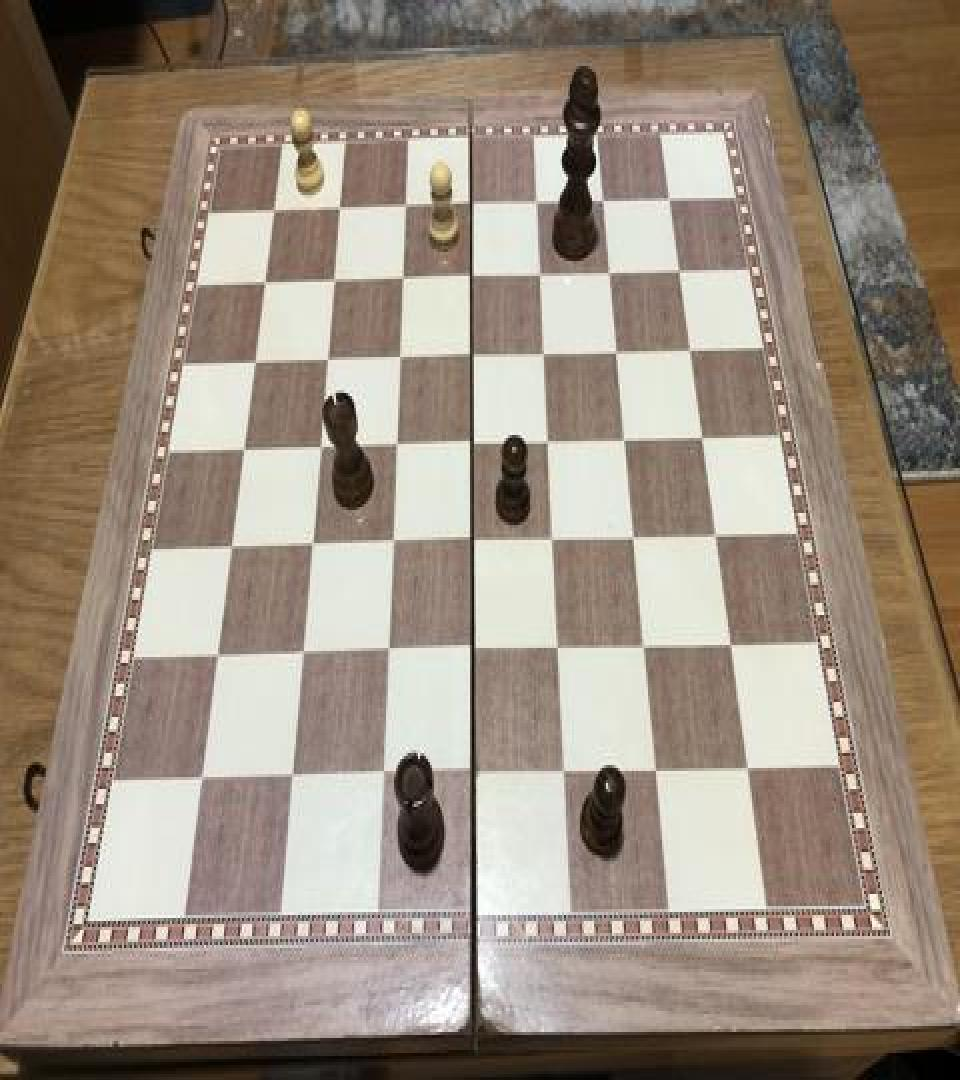xcorner: (546, 631, 570, 668), (292, 637, 316, 674), (553, 754, 577, 791), (656, 182, 680, 218), (590, 183, 614, 219), (524, 186, 548, 222), (459, 189, 483, 225), (394, 190, 418, 226), (330, 194, 354, 230), (265, 195, 289, 231), (666, 252, 690, 288), (597, 255, 621, 291), (528, 258, 552, 294), (391, 262, 415, 298), (324, 264, 348, 300), (256, 267, 280, 303), (677, 332, 701, 368), (604, 334, 628, 370), (532, 336, 556, 372), (460, 339, 484, 375), (388, 340, 412, 376), (246, 345, 270, 381), (689, 418, 713, 454), (612, 422, 636, 458), (536, 423, 560, 459), (460, 426, 484, 462), (385, 428, 409, 464), (234, 434, 258, 470), (703, 518, 727, 554), (622, 519, 646, 555), (541, 522, 565, 558), (461, 524, 485, 560), (381, 525, 405, 561), (301, 528, 325, 564), (222, 530, 246, 566), (718, 627, 742, 663), (632, 628, 656, 664), (461, 633, 485, 669), (376, 634, 400, 670), (208, 639, 232, 675), (736, 752, 760, 788), (644, 753, 668, 789), (462, 758, 486, 794), (371, 759, 395, 795), (281, 760, 305, 796), (192, 762, 216, 798), (460, 260, 484, 295), (317, 344, 341, 379), (309, 431, 333, 466)
